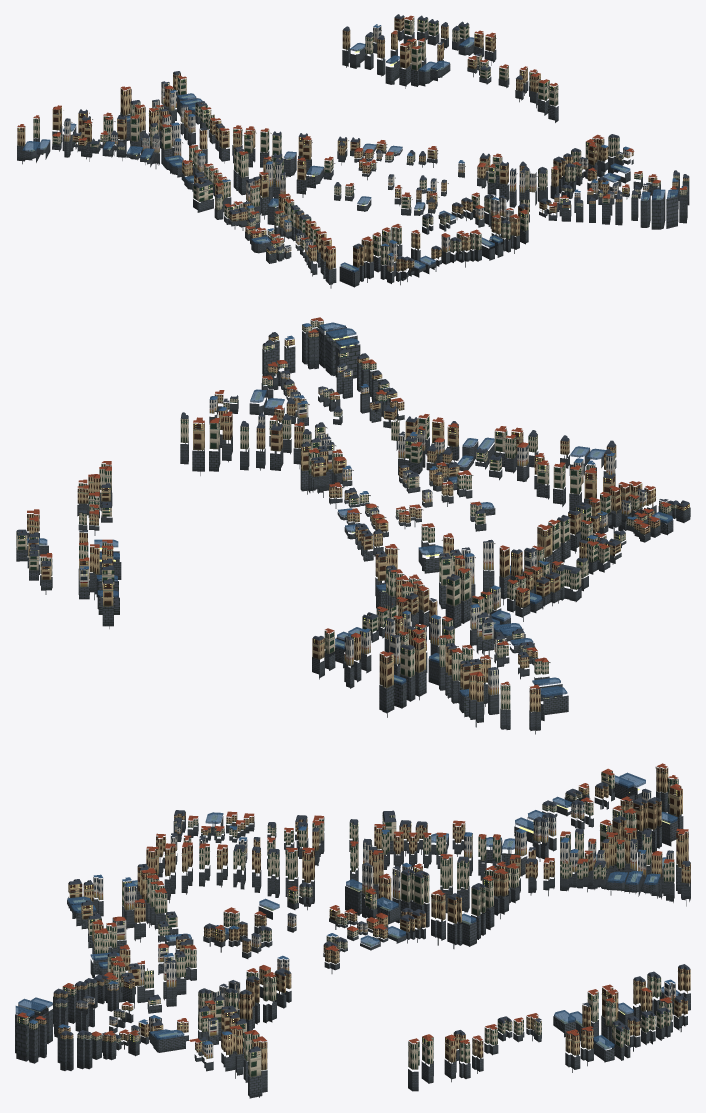
File: osm_buildings_T_W01_S01_Q4.glb
The picture shows the model from 3 angles, top to bottom: view 1: azimuth 30°, elevation 25°; view 2: azimuth 150°, elevation 25°; view 3: azimuth 270°, elevation 25°; orthographic projection. The views are drawn at different scales.
Parts seen in each view (by area): view 1: OSM_PBR_T_W01_S01_Q4_foundation, OSM_PBR_T_W01_S01_Q4_wall_french_ochre, OSM_PBR_T_W01_S01_Q4_wall_cream_stucco, OSM_PBR_T_W01_S01_Q4_greenhouse_blend, OSM_PBR_T_W01_S01_Q4_roof_terracotta, OSM_PBR_T_W01_S01_Q4_roof_mansard_slate, OSM_PBR_T_W01_S01_Q4_wall_warm_white, OSM_PBR_T_W01_S01_Q4_wall_pastel_sand, OSM_PBR_T_W01_S01_Q4_roof_mansard_deck, OSM_PBR_T_W01_S01_Q4_roof_mint_metal, OSM_PBR_T_W01_S01_Q4_trim_cornice, OSM_PBR_T_W01_S01_Q4_balcony_railing (+2 smaller); view 2: OSM_PBR_T_W01_S01_Q4_foundation, OSM_PBR_T_W01_S01_Q4_wall_french_ochre, OSM_PBR_T_W01_S01_Q4_wall_cream_stucco, OSM_PBR_T_W01_S01_Q4_roof_terracotta, OSM_PBR_T_W01_S01_Q4_greenhouse_blend, OSM_PBR_T_W01_S01_Q4_roof_mansard_slate, OSM_PBR_T_W01_S01_Q4_wall_pastel_sand, OSM_PBR_T_W01_S01_Q4_wall_warm_white, OSM_PBR_T_W01_S01_Q4_roof_mansard_deck, OSM_PBR_T_W01_S01_Q4_roof_mint_metal, OSM_PBR_T_W01_S01_Q4_trim_cornice, OSM_PBR_T_W01_S01_Q4_balcony_railing (+2 smaller); view 3: OSM_PBR_T_W01_S01_Q4_foundation, OSM_PBR_T_W01_S01_Q4_wall_french_ochre, OSM_PBR_T_W01_S01_Q4_wall_cream_stucco, OSM_PBR_T_W01_S01_Q4_roof_terracotta, OSM_PBR_T_W01_S01_Q4_greenhouse_blend, OSM_PBR_T_W01_S01_Q4_roof_mansard_slate, OSM_PBR_T_W01_S01_Q4_wall_pastel_sand, OSM_PBR_T_W01_S01_Q4_wall_warm_white, OSM_PBR_T_W01_S01_Q4_roof_mansard_deck, OSM_PBR_T_W01_S01_Q4_roof_mint_metal, OSM_PBR_T_W01_S01_Q4_trim_cornice, OSM_PBR_T_W01_S01_Q4_roof_alpine_blue (+1 smaller).
Part boxes in pixels (left/top/right/bottom): OSM_PBR_T_W01_S01_Q4_foundation: left=17, top=30, right=689, bottom=288; OSM_PBR_T_W01_S01_Q4_wall_french_ochre: left=17, top=17, right=689, bottom=271; OSM_PBR_T_W01_S01_Q4_wall_cream_stucco: left=33, top=17, right=687, bottom=265; OSM_PBR_T_W01_S01_Q4_greenhouse_blend: left=22, top=37, right=678, bottom=272; OSM_PBR_T_W01_S01_Q4_roof_terracotta: left=17, top=15, right=686, bottom=249; OSM_PBR_T_W01_S01_Q4_roof_mansard_slate: left=64, top=14, right=689, bottom=261; OSM_PBR_T_W01_S01_Q4_wall_warm_white: left=64, top=25, right=630, bottom=255; OSM_PBR_T_W01_S01_Q4_wall_pastel_sand: left=152, top=91, right=649, bottom=272; OSM_PBR_T_W01_S01_Q4_roof_mansard_deck: left=23, top=14, right=688, bottom=272; OSM_PBR_T_W01_S01_Q4_roof_mint_metal: left=19, top=21, right=688, bottom=264; OSM_PBR_T_W01_S01_Q4_trim_cornice: left=17, top=18, right=687, bottom=262; OSM_PBR_T_W01_S01_Q4_balcony_railing: left=18, top=22, right=655, bottom=255; OSM_PBR_T_W01_S01_Q4_foundation: left=16, top=327, right=690, bottom=734; OSM_PBR_T_W01_S01_Q4_wall_french_ochre: left=27, top=332, right=689, bottom=711; OSM_PBR_T_W01_S01_Q4_wall_cream_stucco: left=16, top=320, right=676, bottom=709; OSM_PBR_T_W01_S01_Q4_roof_terracotta: left=21, top=317, right=671, bottom=688; OSM_PBR_T_W01_S01_Q4_greenhouse_blend: left=27, top=322, right=672, bottom=697; OSM_PBR_T_W01_S01_Q4_roof_mansard_slate: left=16, top=332, right=689, bottom=670; OSM_PBR_T_W01_S01_Q4_wall_pastel_sand: left=281, top=364, right=615, bottom=664; OSM_PBR_T_W01_S01_Q4_wall_warm_white: left=79, top=388, right=668, bottom=695; OSM_PBR_T_W01_S01_Q4_roof_mansard_deck: left=18, top=326, right=688, bottom=696; OSM_PBR_T_W01_S01_Q4_roof_mint_metal: left=17, top=327, right=686, bottom=693; OSM_PBR_T_W01_S01_Q4_trim_cornice: left=17, top=321, right=677, bottom=691; OSM_PBR_T_W01_S01_Q4_balcony_railing: left=19, top=320, right=688, bottom=688; OSM_PBR_T_W01_S01_Q4_foundation: left=15, top=781, right=690, bottom=1098; OSM_PBR_T_W01_S01_Q4_wall_french_ochre: left=35, top=767, right=690, bottom=1070; OSM_PBR_T_W01_S01_Q4_wall_cream_stucco: left=17, top=771, right=678, bottom=1077; OSM_PBR_T_W01_S01_Q4_roof_terracotta: left=17, top=763, right=688, bottom=1043; OSM_PBR_T_W01_S01_Q4_greenhouse_blend: left=15, top=772, right=679, bottom=1049; OSM_PBR_T_W01_S01_Q4_roof_mansard_slate: left=54, top=783, right=690, bottom=1052; OSM_PBR_T_W01_S01_Q4_wall_pastel_sand: left=76, top=831, right=646, bottom=1040; OSM_PBR_T_W01_S01_Q4_wall_warm_white: left=109, top=791, right=675, bottom=1058; OSM_PBR_T_W01_S01_Q4_roof_mansard_deck: left=18, top=776, right=689, bottom=1050; OSM_PBR_T_W01_S01_Q4_roof_mint_metal: left=17, top=771, right=690, bottom=1058; OSM_PBR_T_W01_S01_Q4_trim_cornice: left=28, top=767, right=689, bottom=1056; OSM_PBR_T_W01_S01_Q4_roof_alpine_blue: left=29, top=826, right=675, bottom=1044.
Bounding box in the file's own units: 1014 × 138 × 998.
Materials: 18 (16 with a texture image).
